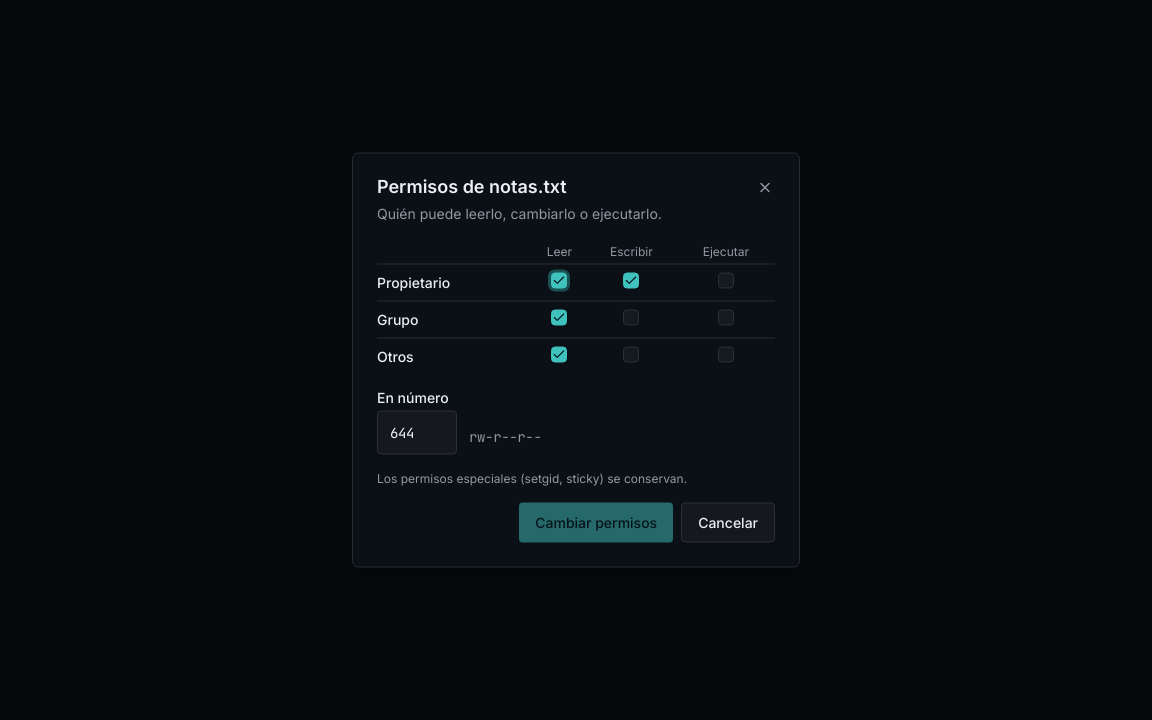
Scenario: DialogoDePermisos › escribir el número marca las casillas
Replace the text in the field labelled "En número" with "755": (417, 432) [377,410,457,454]
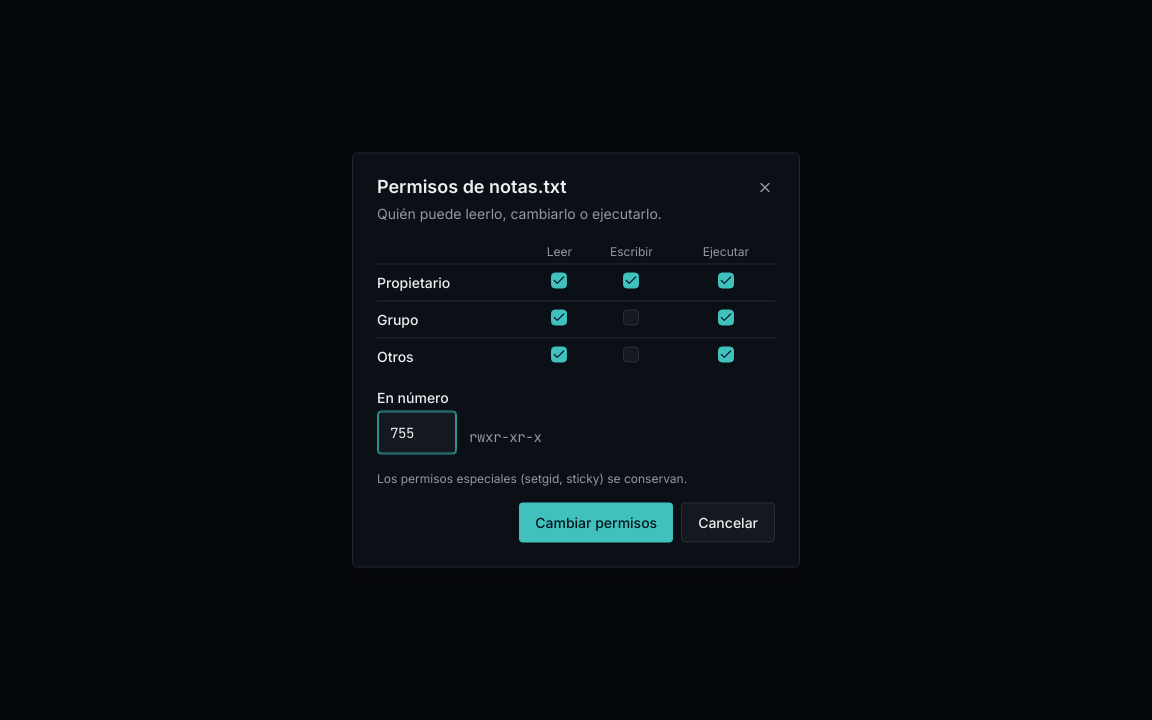
Check: the checkbox named "Propietario: ejecutar" is checked, box [718,272,734,288]
Check: the checkbox named "Otros: ejecutar" is checked, box [718,346,734,362]
